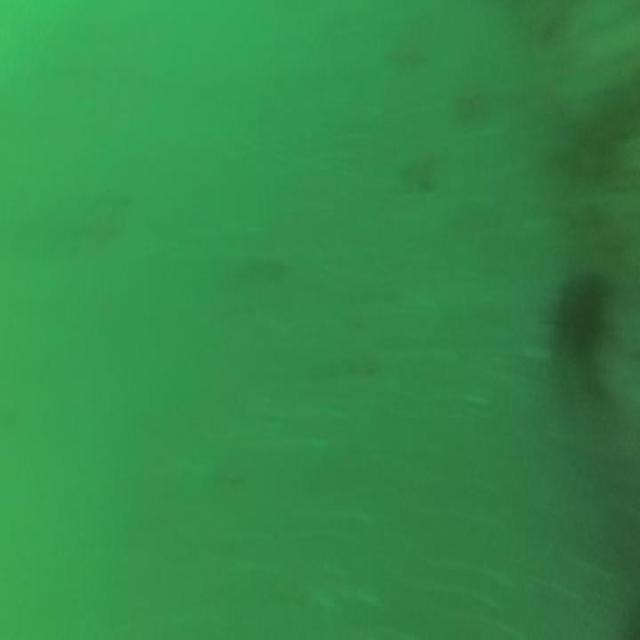echinus: (553, 266, 608, 378)
